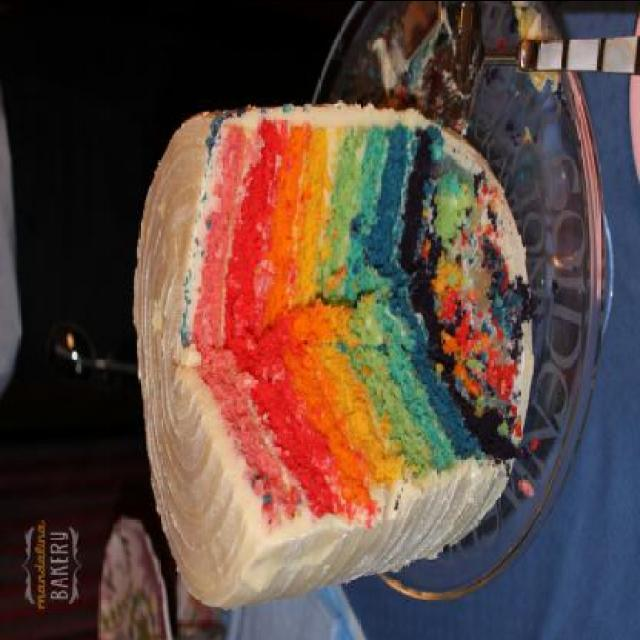Cake: (130, 102, 524, 606)
